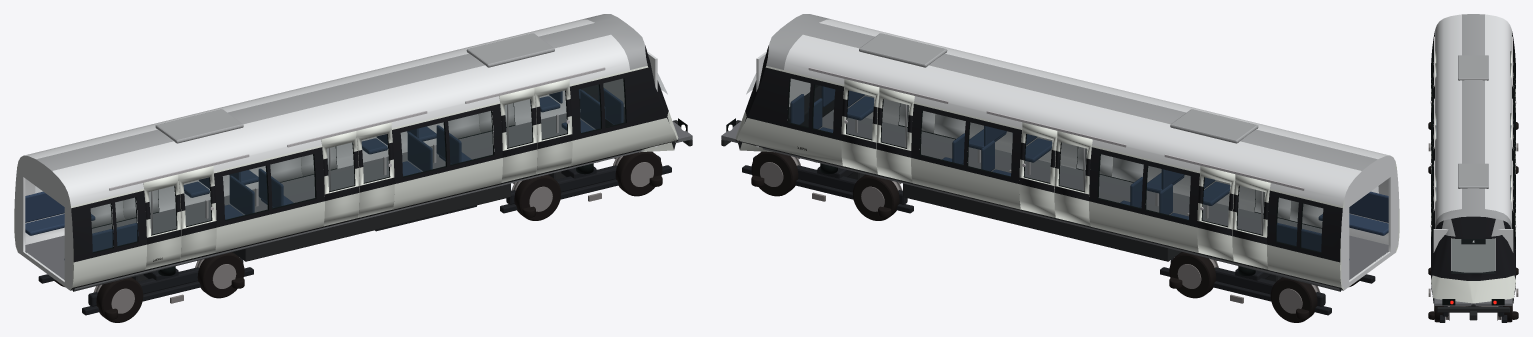
File: mp89_ca_cab.glb
3 views of the same model, side by side, from view 1: azimuth 30°, elevation 25°; view 2: azimuth 150°, elevation 25°; view 3: azimuth 270°, elevation 25° (orthographic). The views are drawn at different scales.
Visible parts, largest first — view 1: METRO_MP89_CA-L4-6voit_V1_Caisse, METRO_MP89_CA-L4-6voit_V1_BaieG1, METRO_MP89_CA-L4-6voit_V1_PorteD3_AV.002, METRO_MP89_CA-L4-6voit_V1_PorteD1_AV.002, METRO_MP89_CA-L4-6voit_V1_PorteD2_AV.002, METRO_MP89_CA-L4-6voit_V1_PorteD1_AR.002, METRO_MP89_CA-L4-6voit_V1_PorteD2_AR.002, METRO_MP89_CA-L4-6voit_V1_PorteD3_AR.002, METRO_MP89_CA-L4-6voit_V1_PorteD1_AV_Vitre, METRO_MP89_CA-L4-6voit_V1_PorteD3_AV_Vitre, METRO_MP89_CA-L4-6voit_V1_PorteD2_AV_Vitre, METRO_MP89_CA-L4-6voit_V1_PorteD3_AR_Vitre (+5 smaller); view 2: METRO_MP89_CA-L4-6voit_V1_Caisse, METRO_MP89_CA-L4-6voit_V1_BaieG1, METRO_MP89_CA-L4-6voit_V1_PorteG3_AV.002, METRO_MP89_CA-L4-6voit_V1_PorteG1_AV.002, METRO_MP89_CA-L4-6voit_V1_PorteG2_AV.002, METRO_MP89_CA-L4-6voit_V1_PorteG1_AR.002, METRO_MP89_CA-L4-6voit_V1_PorteG2_AR.002, METRO_MP89_CA-L4-6voit_V1_PorteG3_AR.002, METRO_MP89_CA-L4-6voit_V1_PorteG1_AV_Vitre, METRO_MP89_CA-L4-6voit_V1_PorteG3_AV_Vitre, METRO_MP89_CA-L4-6voit_V1_PorteG2_AV_Vitre, METRO_MP89_CA-L4-6voit_V1_PorteG3_AR_Vitre (+5 smaller); view 3: METRO_MP89_CA-L4-6voit_V1_Caisse, METRO_MP89_CA-L4-6voit_V1_BaieG1, METRO_MP89_CA-L4-6voit_V1_PorteG1_AV.002, METRO_MP89_CA-L4-6voit_V1_PorteD1_AV.002, METRO_MP89_CA-L4-6voit_V1_PorteG2_AV.002, METRO_MP89_CA-L4-6voit_V1_PorteG3_AV.002, METRO_MP89_CA-L4-6voit_V1_PorteD2_AV.002, METRO_MP89_CA-L4-6voit_V1_PorteD3_AV.002, METRO_MP89_CA-L4-6voit_V1_PorteG2_AR.002, METRO_MP89_CA-L4-6voit_V1_PorteG3_AR.002, METRO_MP89_CA-L4-6voit_V1_PorteD2_AR.002, METRO_MP89_CA-L4-6voit_V1_PorteD3_AR.002 (+2 smaller).
Part boxes in pixels (box(x1,y1,x2,y2)): METRO_MP89_CA-L4-6voit_V1_Caisse: box(14, 14, 692, 322); METRO_MP89_CA-L4-6voit_V1_BaieG1: box(35, 74, 667, 252); METRO_MP89_CA-L4-6voit_V1_PorteD3_AV.002: box(178, 165, 216, 261); METRO_MP89_CA-L4-6voit_V1_PorteD1_AV.002: box(534, 79, 572, 174); METRO_MP89_CA-L4-6voit_V1_PorteD2_AV.002: box(356, 122, 394, 217); METRO_MP89_CA-L4-6voit_V1_PorteD1_AR.002: box(499, 87, 537, 182); METRO_MP89_CA-L4-6voit_V1_PorteD2_AR.002: box(321, 131, 359, 226); METRO_MP89_CA-L4-6voit_V1_PorteD3_AR.002: box(143, 174, 181, 269); METRO_MP89_CA-L4-6voit_V1_PorteD1_AV_Vitre: box(539, 91, 566, 139); METRO_MP89_CA-L4-6voit_V1_PorteD3_AV_Vitre: box(184, 178, 210, 225); METRO_MP89_CA-L4-6voit_V1_PorteD2_AV_Vitre: box(362, 134, 388, 182); METRO_MP89_CA-L4-6voit_V1_PorteD3_AR_Vitre: box(149, 186, 176, 234); METRO_MP89_CA-L4-6voit_V1_Caisse: box(721, 14, 1399, 322); METRO_MP89_CA-L4-6voit_V1_BaieG1: box(746, 74, 1378, 252); METRO_MP89_CA-L4-6voit_V1_PorteG3_AV.002: box(1197, 165, 1235, 261); METRO_MP89_CA-L4-6voit_V1_PorteG1_AV.002: box(841, 79, 879, 174); METRO_MP89_CA-L4-6voit_V1_PorteG2_AV.002: box(1019, 122, 1057, 217); METRO_MP89_CA-L4-6voit_V1_PorteG1_AR.002: box(876, 87, 914, 182); METRO_MP89_CA-L4-6voit_V1_PorteG2_AR.002: box(1054, 131, 1092, 226); METRO_MP89_CA-L4-6voit_V1_PorteG3_AR.002: box(1232, 174, 1270, 269); METRO_MP89_CA-L4-6voit_V1_PorteG1_AV_Vitre: box(847, 91, 874, 139); METRO_MP89_CA-L4-6voit_V1_PorteG3_AV_Vitre: box(1203, 178, 1229, 225); METRO_MP89_CA-L4-6voit_V1_PorteG2_AV_Vitre: box(1025, 134, 1051, 182); METRO_MP89_CA-L4-6voit_V1_PorteG3_AR_Vitre: box(1237, 186, 1264, 234); METRO_MP89_CA-L4-6voit_V1_Caisse: box(1428, 14, 1518, 322); METRO_MP89_CA-L4-6voit_V1_BaieG1: box(1432, 99, 1514, 273); METRO_MP89_CA-L4-6voit_V1_PorteG1_AV.002: box(1510, 187, 1515, 236); METRO_MP89_CA-L4-6voit_V1_PorteD1_AV.002: box(1431, 187, 1436, 236); METRO_MP89_CA-L4-6voit_V1_PorteG2_AV.002: box(1510, 125, 1515, 174); METRO_MP89_CA-L4-6voit_V1_PorteG3_AV.002: box(1510, 63, 1515, 112); METRO_MP89_CA-L4-6voit_V1_PorteD2_AV.002: box(1431, 125, 1436, 174); METRO_MP89_CA-L4-6voit_V1_PorteD3_AV.002: box(1431, 63, 1436, 112); METRO_MP89_CA-L4-6voit_V1_PorteG2_AR.002: box(1510, 113, 1515, 182); METRO_MP89_CA-L4-6voit_V1_PorteG3_AR.002: box(1510, 51, 1515, 120); METRO_MP89_CA-L4-6voit_V1_PorteD2_AR.002: box(1431, 113, 1436, 182); METRO_MP89_CA-L4-6voit_V1_PorteD3_AR.002: box(1431, 51, 1436, 120).
Size of the model in its own units: 15.05 by 3.47 by 2.6.
9 materials, 9 textured.
